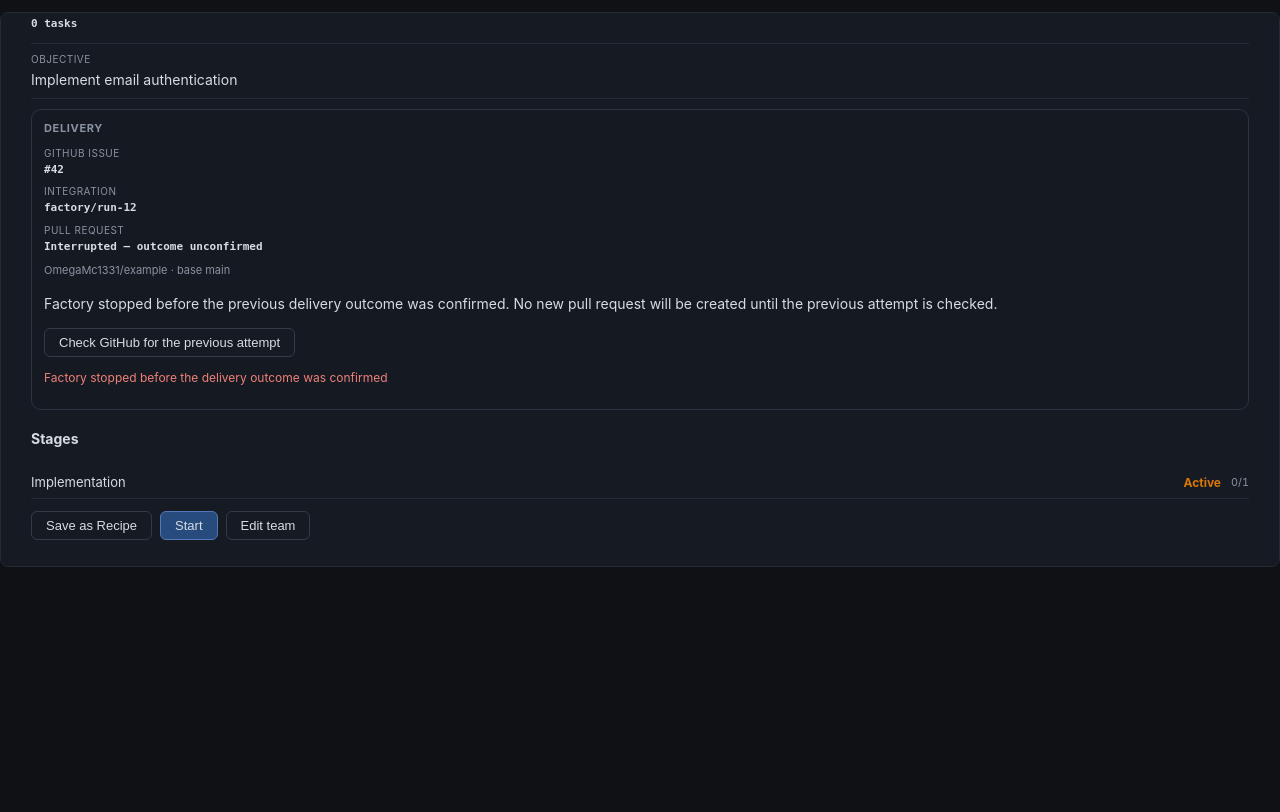
Test: Workflow inspector › recovers an interrupted delivery through explicit reconciliation
The image size is (1280, 812).
(page scrolled)
Step 1. Click the button "Check GitHub for the previous attempt" → (170, 342), box [44,328,295,357]
(page scrolled)
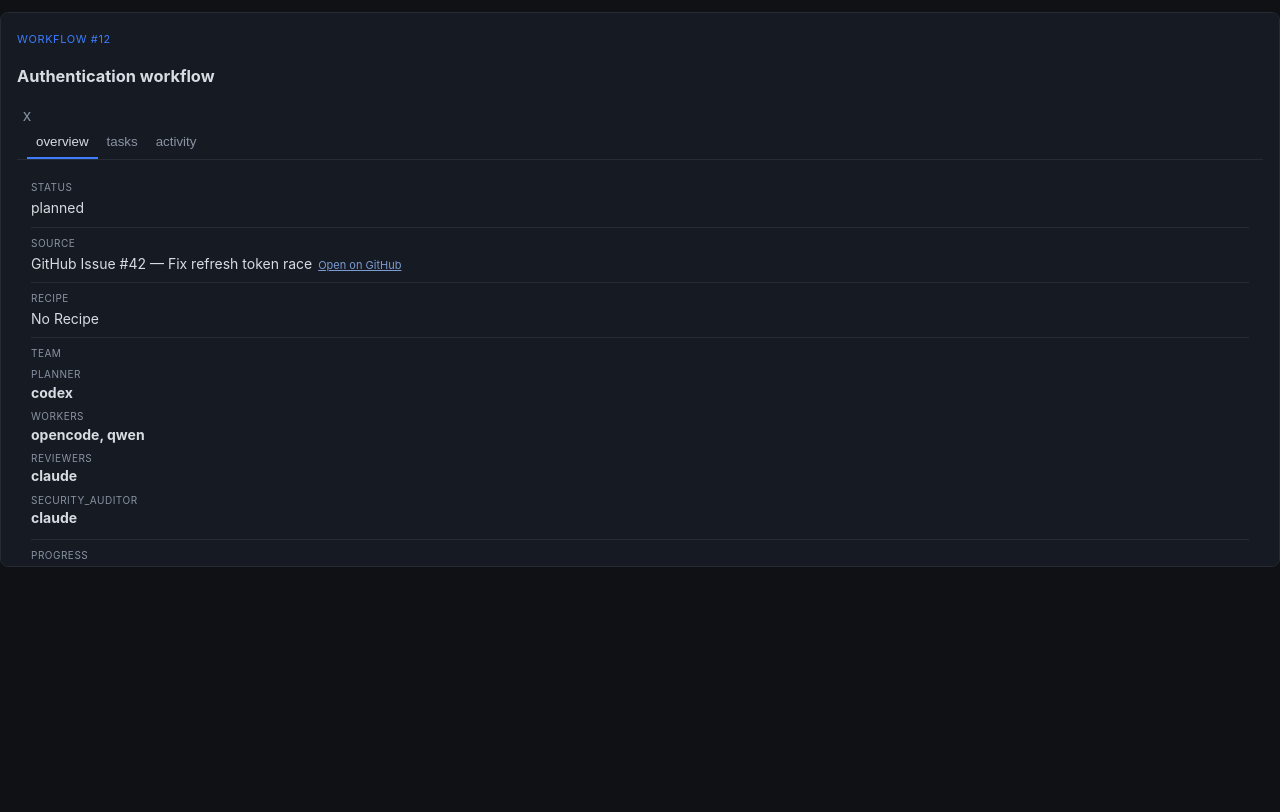
Result: the link "Open on GitHub" is shown at [318,258,401,274]
